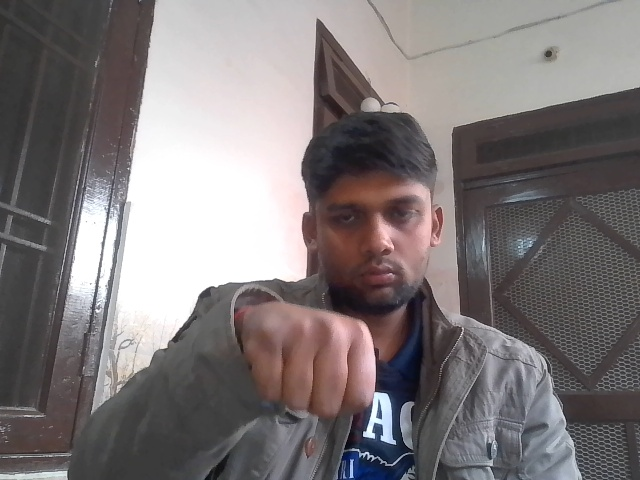Yes: (237, 297, 395, 417)
